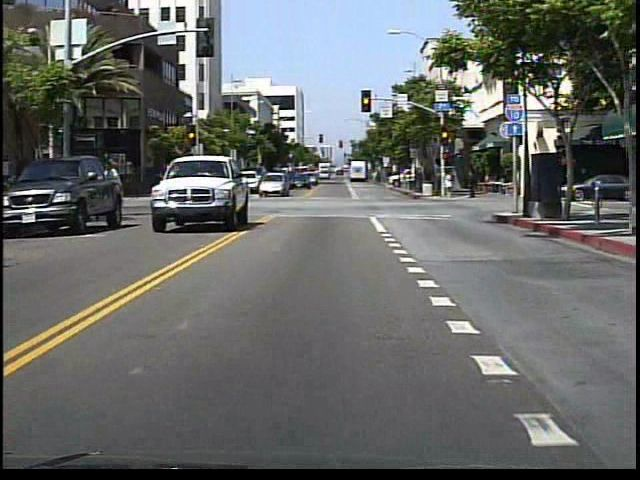person: (464, 170, 479, 202), (180, 171, 193, 198), (444, 170, 455, 198)
